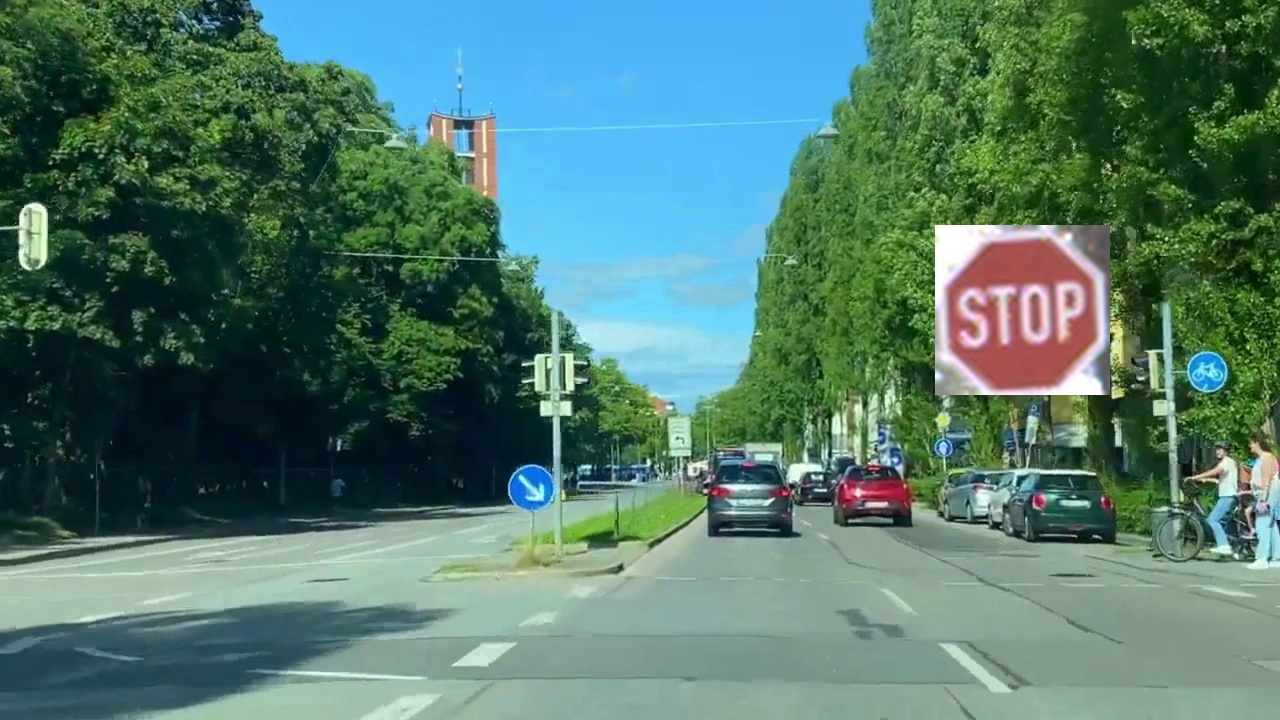Stop: (935, 225, 1110, 395)
